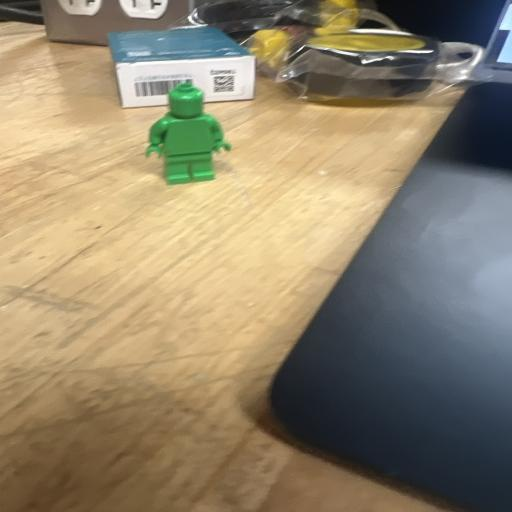green-lego-minifigure-detector: (146, 82, 231, 185)
